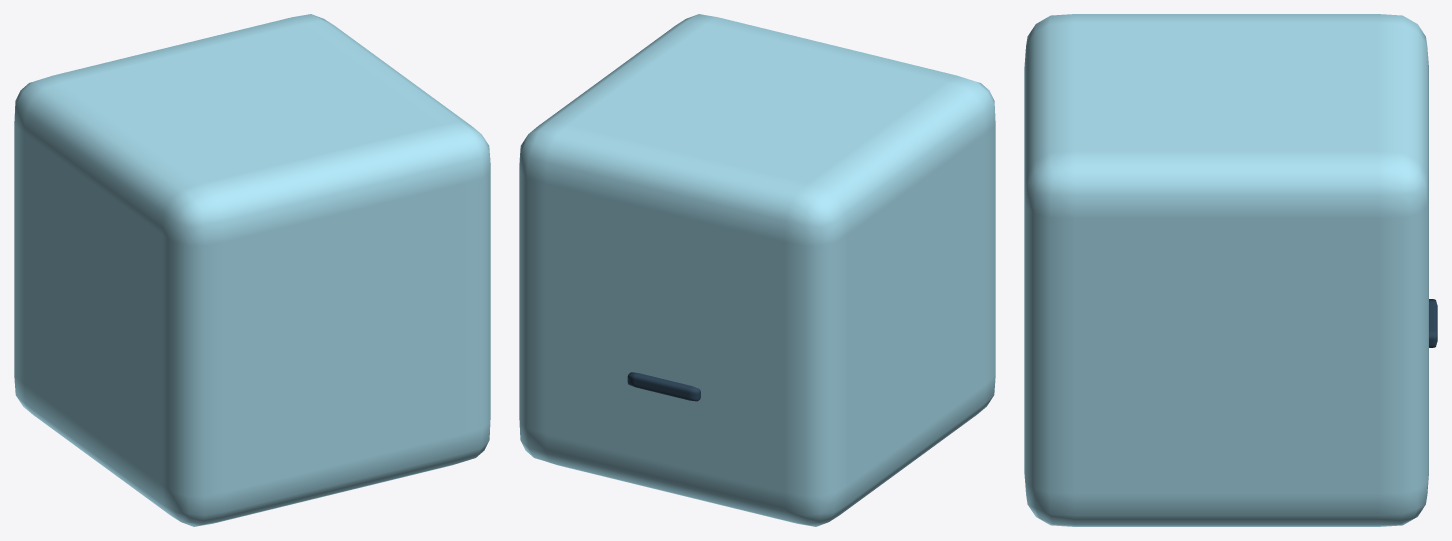
File: StreetHeroBody.glb
3 views of the same model, side by side, from view 1: azimuth 30°, elevation 25°; view 2: azimuth 150°, elevation 25°; view 3: azimuth 270°, elevation 25° (orthographic). The views are drawn at different scales.
Parts seen in each view (by area): view 1: Street Hero; view 2: Street Hero; view 3: Street Hero.
Part boxes in pixels (x1,y1,x2,y2): Street Hero: [14, 14, 490, 526]; Street Hero: [519, 14, 995, 526]; Street Hero: [1024, 14, 1437, 526].
Bounding box in the file's own units: 0.9 × 0.9 × 0.919.
